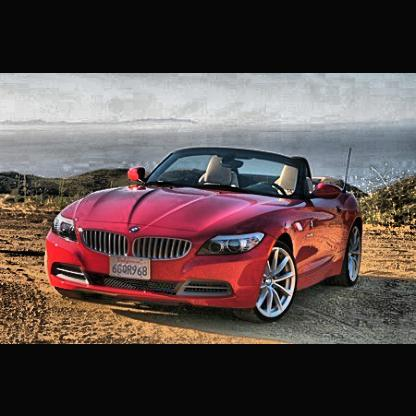BMW Z4 Convertible 2012: (47, 150, 365, 321)
